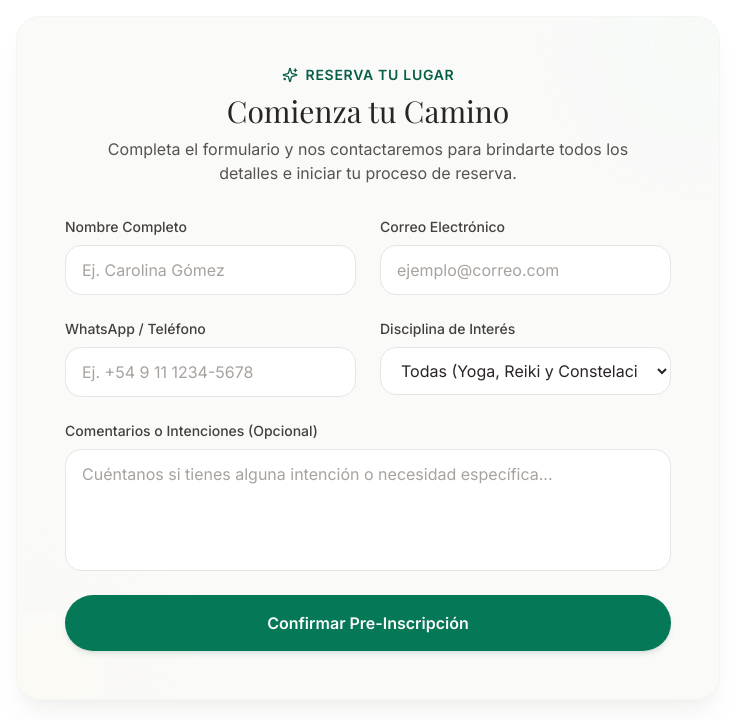
Test: FormRegister Component › shows success screen and resets form fields on successful submission
// Rellenar campos obligatorios
In the field labelled "Nombre Completo": (210, 270) [65,245,356,295], type "Juan Perez"
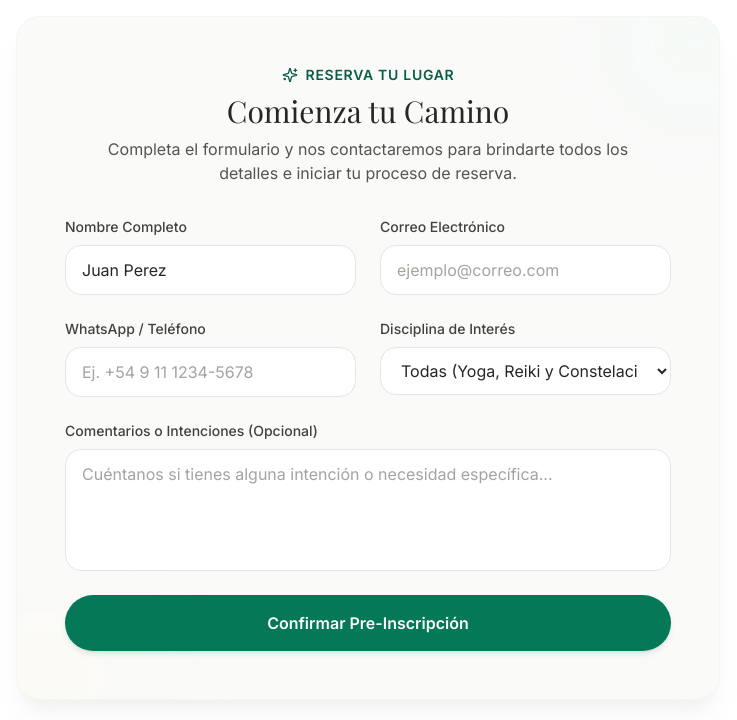
In the field labelled "Correo Electrónico": (526, 270) [380,245,671,295], type "juan@email.com"
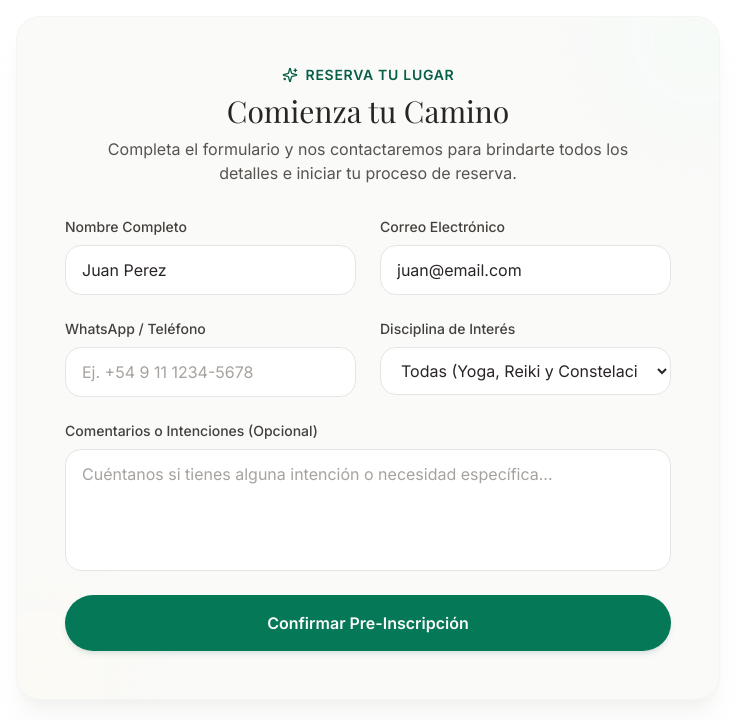
In the field labelled "WhatsApp / Teléfono": (210, 372) [65,347,356,397], type "+5491112345678"
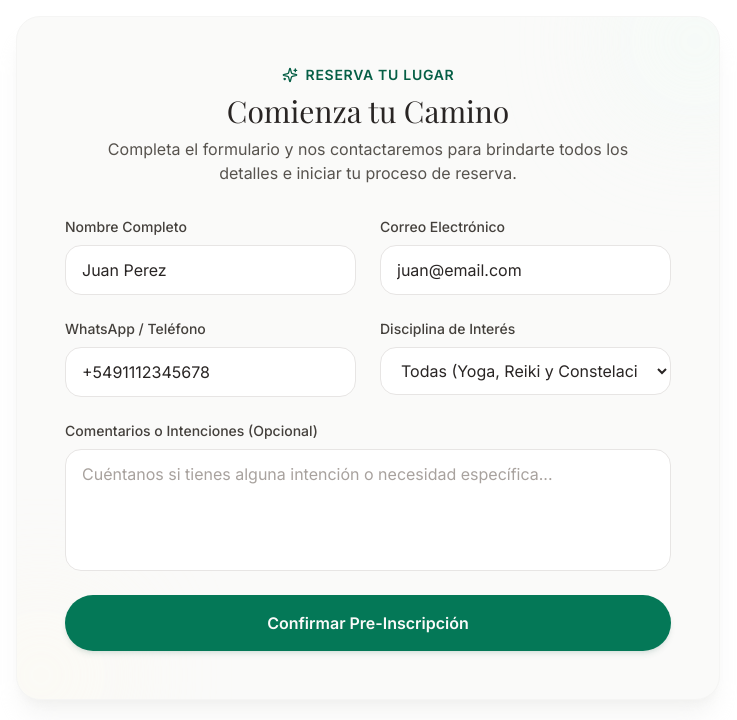
// Enviar el formulario
Click the button "Confirmar Pre-Inscripción": (368, 623) [65,595,671,651]
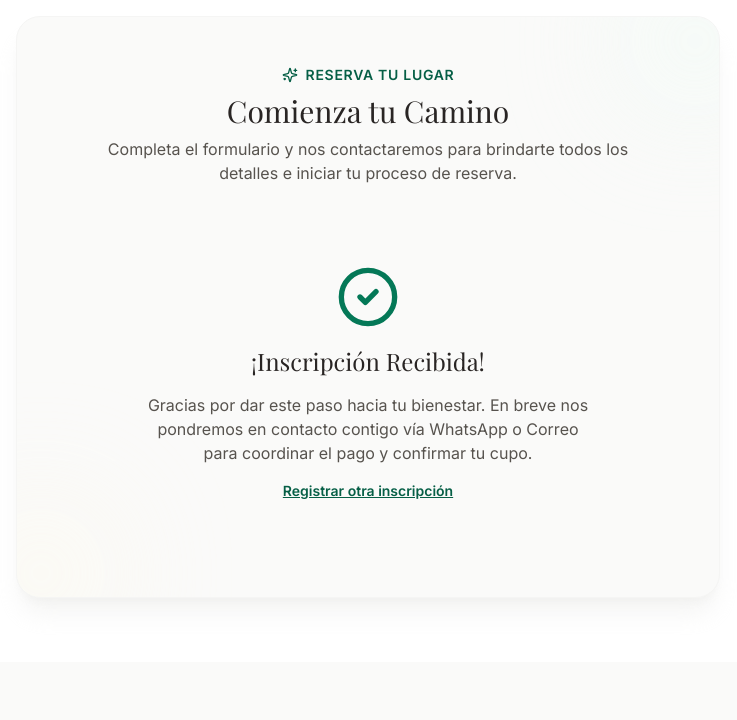
Expected: the heading "¡Inscripción Recibida!" is shown, [251,345,485,377]
